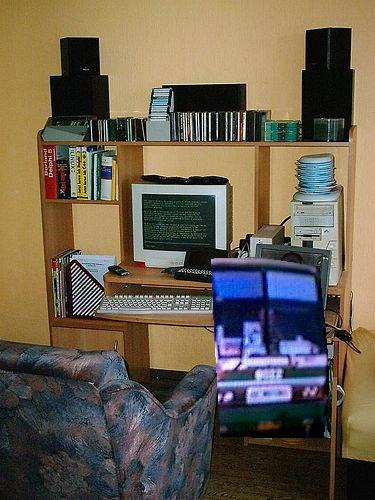tampered: (212, 258, 329, 438)
